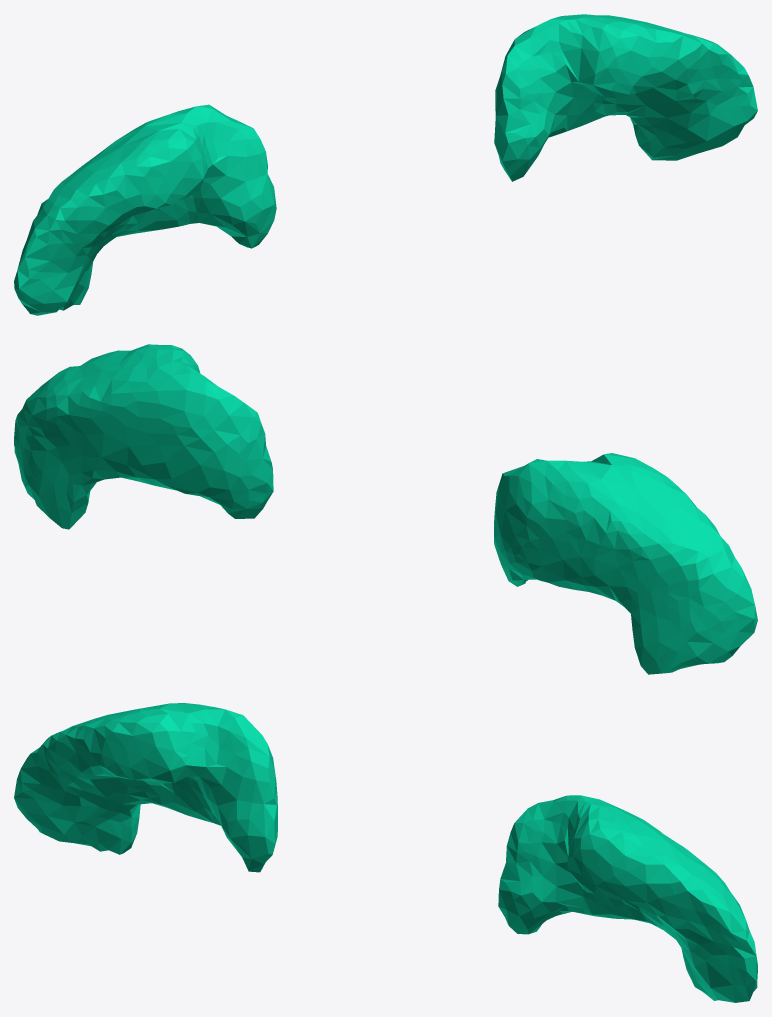
Rendered from 24-Dpt-dorsal parietal area-('0.0000', '1.0000', '0.7647').obj.
3 renders of one model, top to bottom at view 1: azimuth 30°, elevation 25°; view 2: azimuth 150°, elevation 25°; view 3: azimuth 330°, elevation 25°, orthographic.
Size of the model in its own units: 225 by 52.2 by 26.5.
